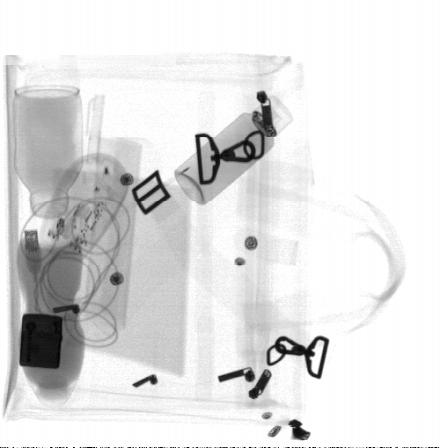Lighter: (19, 313, 62, 369)
Sprayer: (175, 95, 295, 206)
